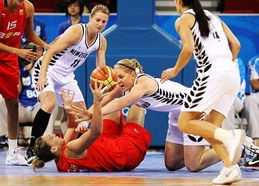falling: (31, 63, 148, 179)
